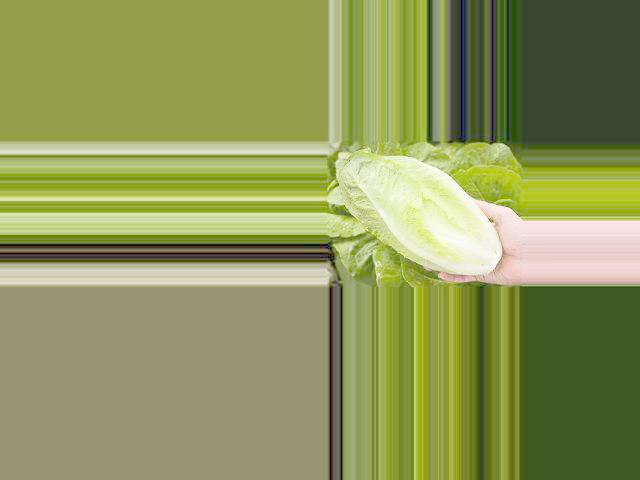lettuce: (338, 149, 482, 297)
